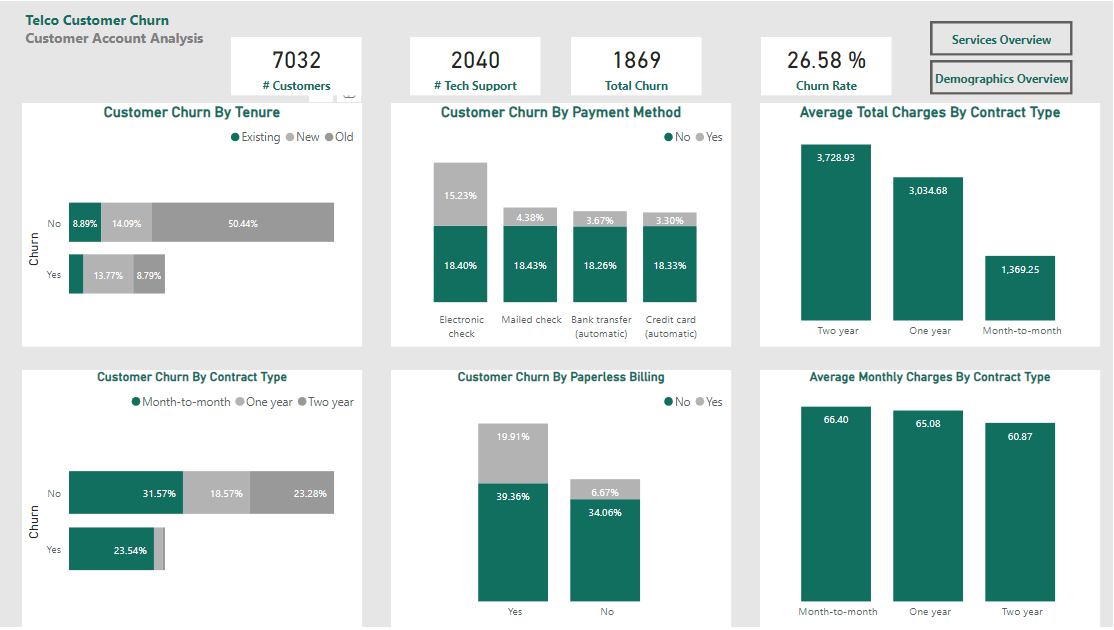

The page's visual inventory and layout, read from the dashboard file:
{"tool":"powerbi","page":{"name":"Customer Accounts Overview","canvas":[1280,720],"ordinal":1},"visuals":[{"type":"textbox","box":[25.6,5.6,241.1,75.6],"z":0},{"type":"barChart","title":"Customer Churn By Tenure","fields":{"Category":["FactCustomerChurn.Churn"],"Y":["Dax Measuers.# Customers"],"Series":["FactCustomerChurn.TenureBias"]},"box":[26,117,391,280],"z":1000},{"type":"columnChart","title":"Customer Churn By Payment Method","fields":{"Y":["Dax Measuers.# Customers"],"Category":["DimPaymentMethod.PaymentMethod"],"Series":["FactCustomerChurn.Churn"]},"box":[450.5,117,391,280],"z":2000},{"type":"columnChart","title":"Average Total Charges By Contract Type","fields":{"Category":["DimContract.Contract"],"Y":["Dax Measuers.Total Charges(Avg)"]},"box":[875,117,391,280],"z":3000},{"type":"columnChart","title":"Average Monthly Charges By Contract Type","fields":{"Category":["DimContract.Contract"],"Y":["Dax Measuers.Monthly Charges(Avg)"]},"box":[875,424,391,296],"z":4000},{"type":"barChart","title":"Customer Churn By Contract Type","fields":{"Category":["FactCustomerChurn.Churn"],"Y":["Divide(CountNonNull(FactCustomerChurn.IsSeniorCitizen), ScopedEval(CountNonNull(FactCustomerChurn.IsSeniorCitizen), []))"],"Series":["DimContract.Contract"]},"box":[26,424,391,296],"z":5000},{"type":"columnChart","title":"Customer Churn By Paperless Billing","fields":{"Y":["Dax Measuers.# Customers"],"Category":["FactCustomerChurn.PaperlessBilling"],"Series":["FactCustomerChurn.Churn"]},"box":[451,424,391,296],"z":6000},{"type":"card","fields":{"Values":["Dax Measuers.# Customers"]},"box":[266.7,41.1,150,66.7],"z":7000},{"type":"card","fields":{"Values":["Dax Measuers.# Tech Support"]},"box":[472.2,41.1,150,66.7],"z":8000},{"type":"card","fields":{"Values":["Dax Measuers.Total Churn"]},"box":[657.8,41.1,150,66.7],"z":9000},{"type":"card","fields":{"Values":["Dax Measuers.Churn Rate"]},"box":[875.6,41.1,150,66.7],"z":10000},{"type":"actionButton","box":[1070,67.8,164.4,40],"z":11000},{"type":"actionButton","box":[1070,23.3,164.4,40],"z":12000}]}

Visuals, with their boxes in screenshot pixels (x1, y1, x2, y2), scaled from the page's 1280x720 canvas onto the 1114x630 screenshot:
textbox: region(22, 5, 232, 71)
"Customer Churn By Tenure" barChart: region(23, 102, 363, 347)
"Customer Churn By Payment Method" columnChart: region(392, 102, 732, 347)
"Average Total Charges By Contract Type" columnChart: region(762, 102, 1102, 347)
"Average Monthly Charges By Contract Type" columnChart: region(762, 371, 1102, 629)
"Customer Churn By Contract Type" barChart: region(23, 371, 363, 629)
"Customer Churn By Paperless Billing" columnChart: region(393, 371, 733, 629)
card - Dax Measuers.# Customers: region(232, 36, 363, 94)
card - Dax Measuers.# Tech Support: region(411, 36, 542, 94)
card - Dax Measuers.Total Churn: region(572, 36, 703, 94)
card - Dax Measuers.Churn Rate: region(762, 36, 893, 94)
actionButton: region(931, 59, 1074, 94)
actionButton: region(931, 20, 1074, 55)
